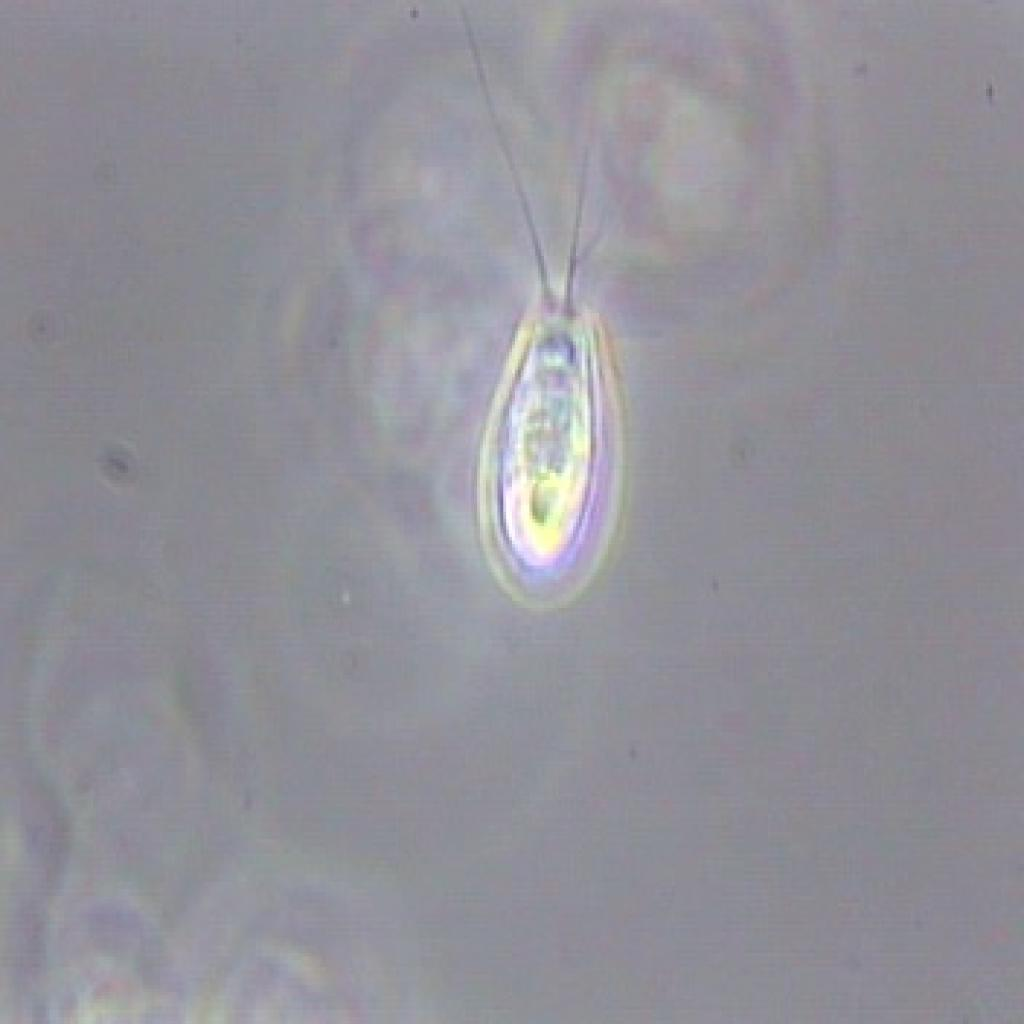Euglypha: (454, 194, 652, 620)
